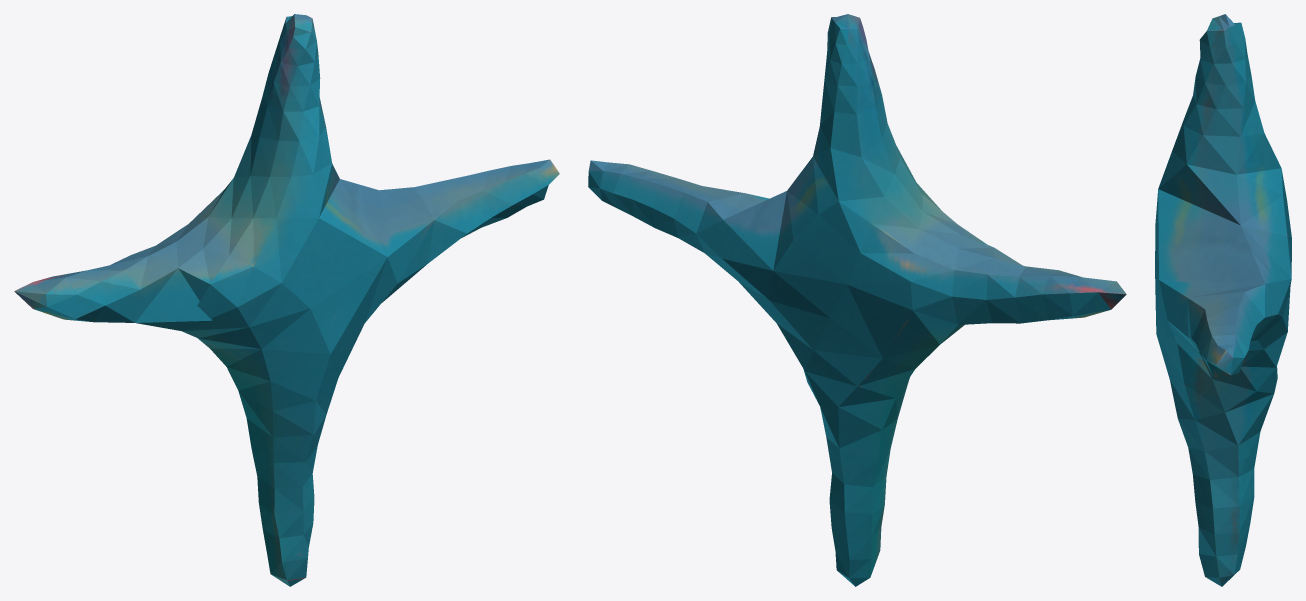
File: Star_003.fbx
3 views of the same model, side by side, from view 1: azimuth 30°, elevation 25°; view 2: azimuth 150°, elevation 25°; view 3: azimuth 270°, elevation 25° (orthographic).
Parts seen in each view (by area): view 1: Star.003; view 2: Star.003; view 3: Star.003.
Boxes of the visible parts, <box> form: Star.003: <box>14,14,559,586</box>; Star.003: <box>588,14,1126,586</box>; Star.003: <box>1155,14,1291,586</box>.
Size of the model in its own units: 22.32 by 22.53 by 4.86.
